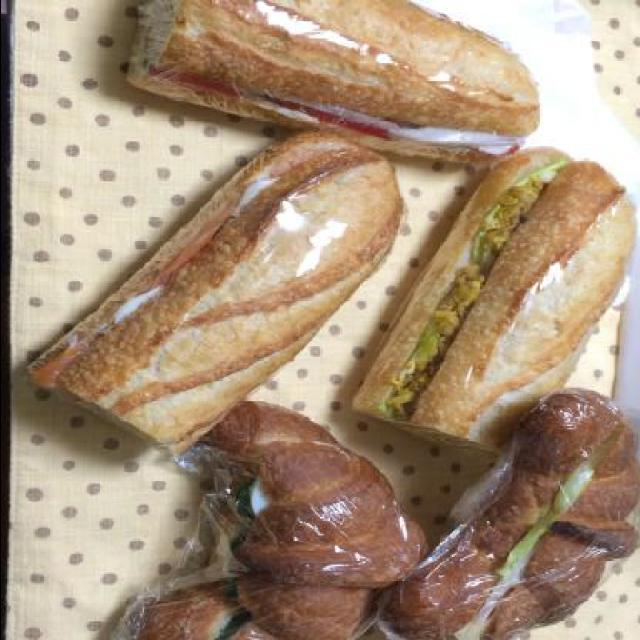Bread: (32, 121, 412, 444), (136, 398, 430, 640), (408, 160, 637, 463), (376, 387, 640, 640), (352, 144, 570, 433), (126, 0, 509, 162), (150, 0, 543, 135)
